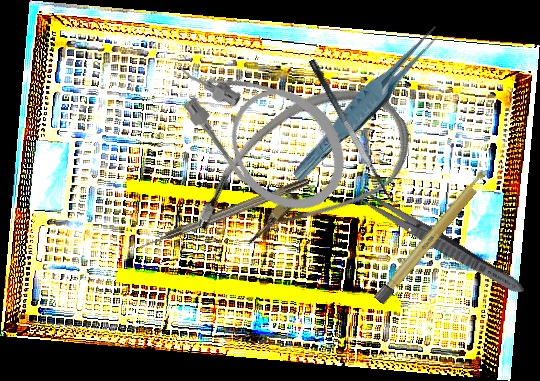Cannula: (176, 55, 429, 294), (153, 17, 368, 233)
Dressing Forceps: (350, 185, 530, 300)
Hook Surgical: (135, 177, 311, 252)
Scalpel Handle: (373, 165, 494, 306)
Spatula Surgical: (306, 51, 406, 210)
Tissue Forceps: (281, 22, 456, 184)
